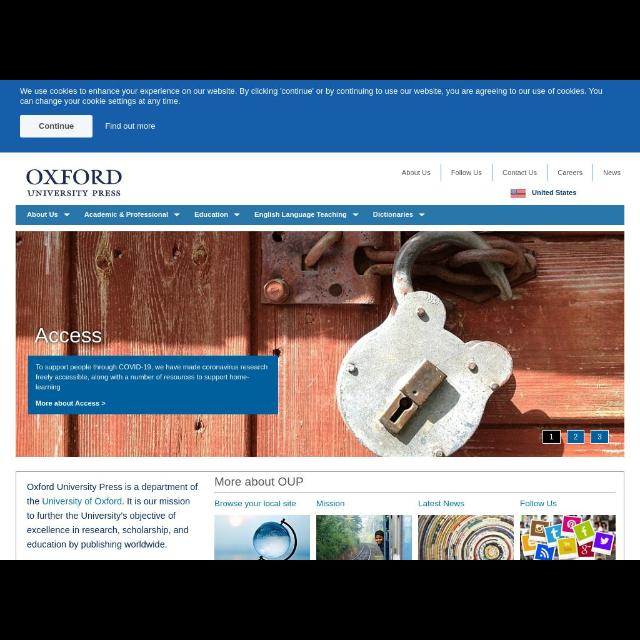backgroundimage: (16, 232, 624, 458)
icon: (352, 212, 361, 218), (418, 211, 426, 217), (233, 211, 240, 217), (64, 213, 70, 217), (174, 212, 180, 216)
image: (316, 515, 412, 559), (418, 516, 514, 558), (216, 516, 310, 558), (521, 516, 615, 558), (28, 168, 122, 198), (510, 189, 526, 199)
multitab: (16, 204, 624, 226)
spinner: (85, 208, 179, 220), (256, 212, 360, 220), (26, 209, 72, 219), (372, 211, 426, 219), (194, 211, 242, 219)
text: (28, 483, 198, 552), (21, 86, 602, 106), (36, 362, 268, 392), (32, 328, 104, 346), (213, 476, 304, 488), (254, 211, 348, 221), (34, 400, 100, 410), (85, 211, 167, 219), (216, 500, 298, 508), (104, 122, 156, 130), (372, 210, 412, 220), (37, 122, 74, 132), (520, 499, 558, 507), (402, 168, 431, 178), (418, 502, 464, 508), (500, 170, 538, 177), (532, 189, 576, 195), (26, 211, 58, 219), (451, 170, 484, 177), (193, 212, 229, 218), (558, 170, 584, 178), (318, 500, 344, 508), (602, 168, 622, 176), (572, 431, 580, 441), (596, 432, 604, 442), (548, 434, 554, 441)
textbutton: (21, 116, 94, 138)
